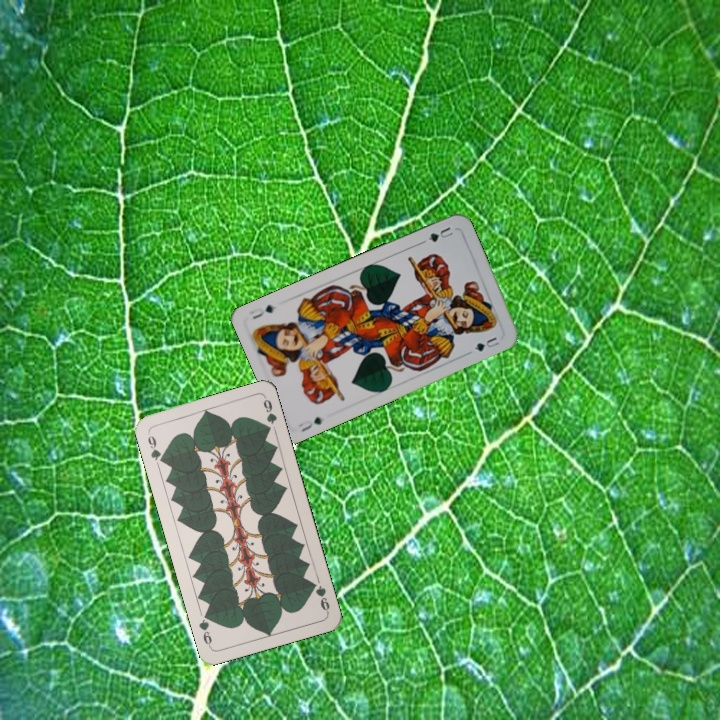G9: (307, 578, 332, 615), (144, 431, 167, 466)
GU: (424, 223, 456, 245), (295, 413, 325, 435)
